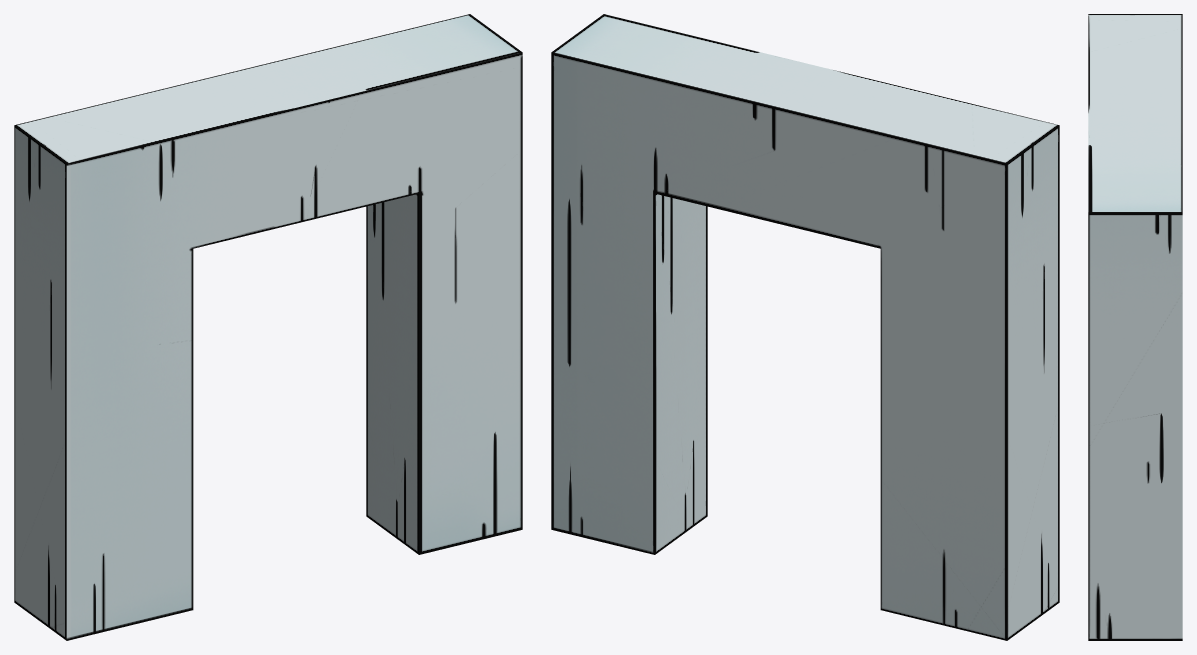
Rendered from doorwall.fbx.
3 views of the same model, side by side, from view 1: azimuth 30°, elevation 25°; view 2: azimuth 150°, elevation 25°; view 3: azimuth 270°, elevation 25° (orthographic). The views are drawn at different scales.
Parts seen in each view (by area): view 1: doorwall; view 2: doorwall; view 3: doorwall.
Boxes of the visible parts, x1,y1,x2,y2 form: doorwall: (14, 14, 522, 640); doorwall: (551, 14, 1059, 640); doorwall: (1088, 14, 1182, 640).
Bounding box in the file's own units: 2 × 2 × 0.4.
